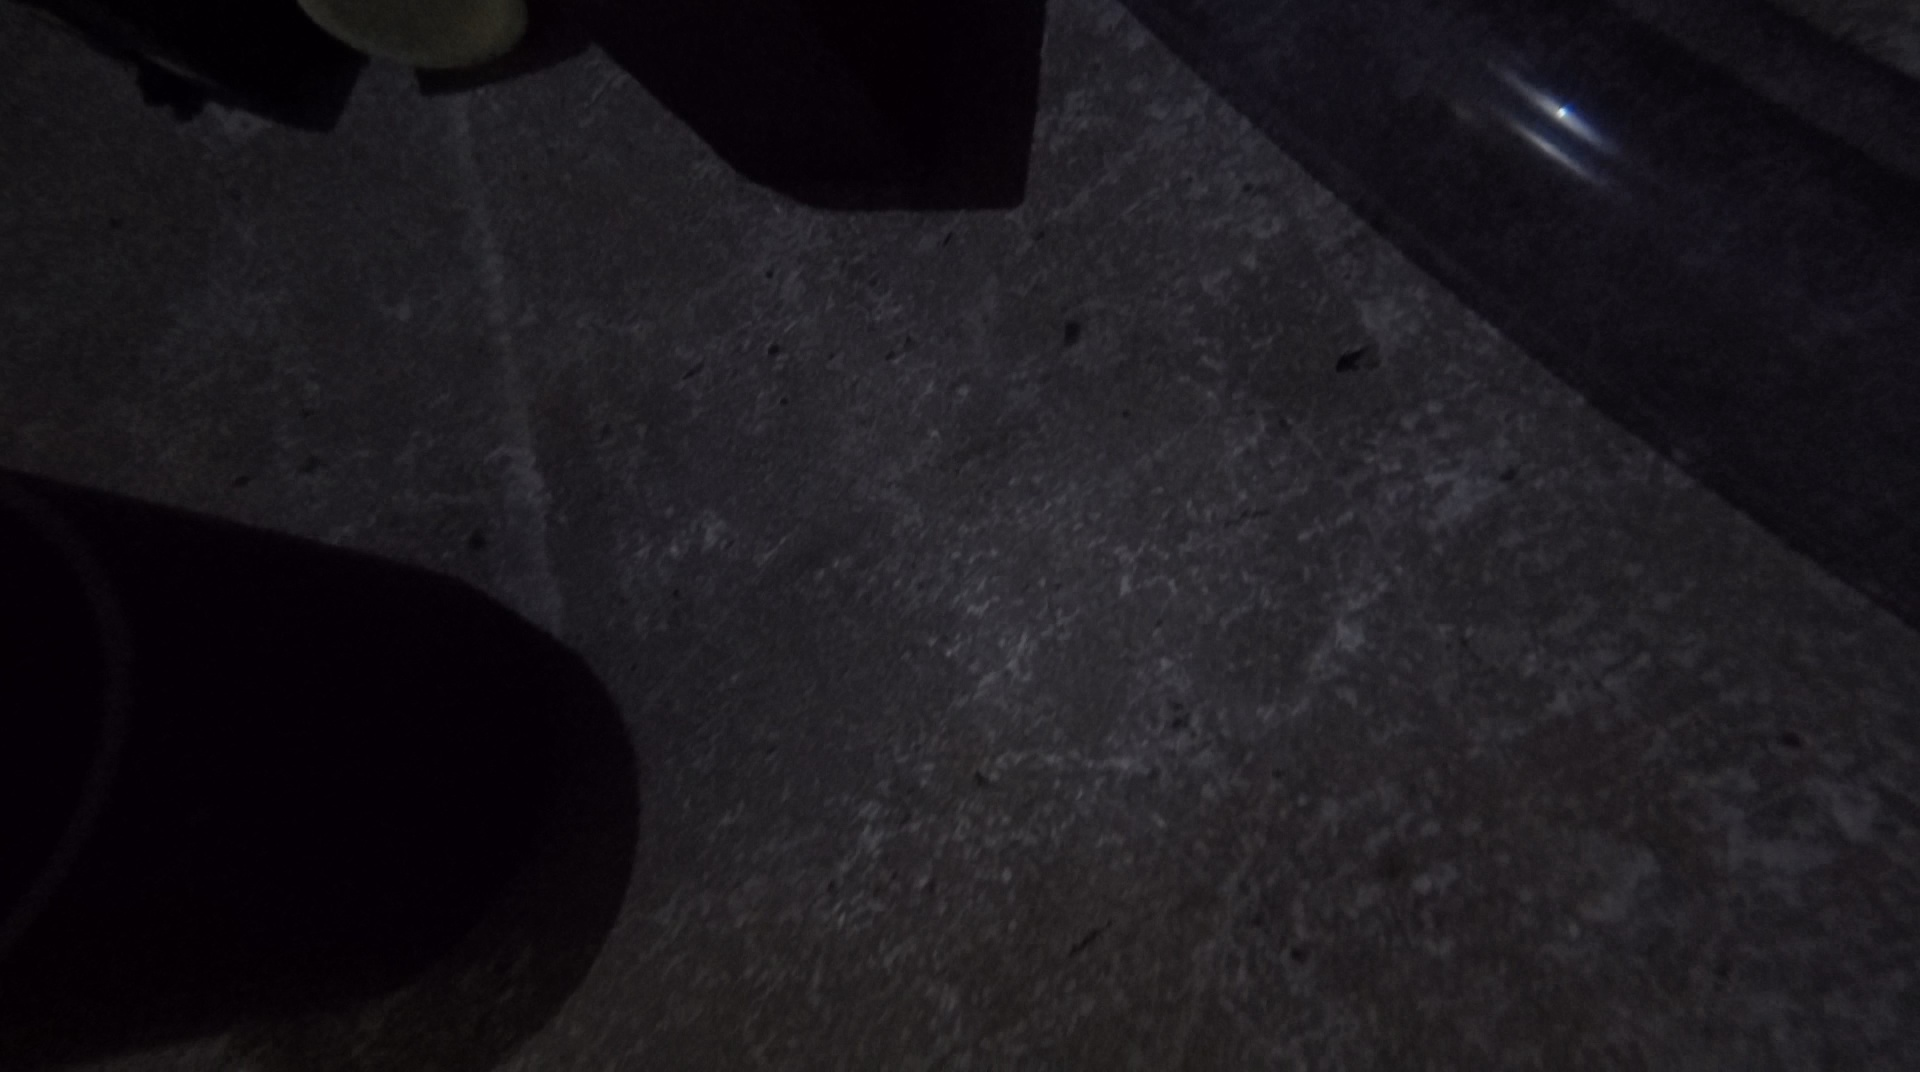led_block: (572, 1, 1047, 210), (22, 1, 361, 131)
pipe: (1108, 1, 1920, 628), (1, 460, 554, 1011), (297, 1, 535, 69)
